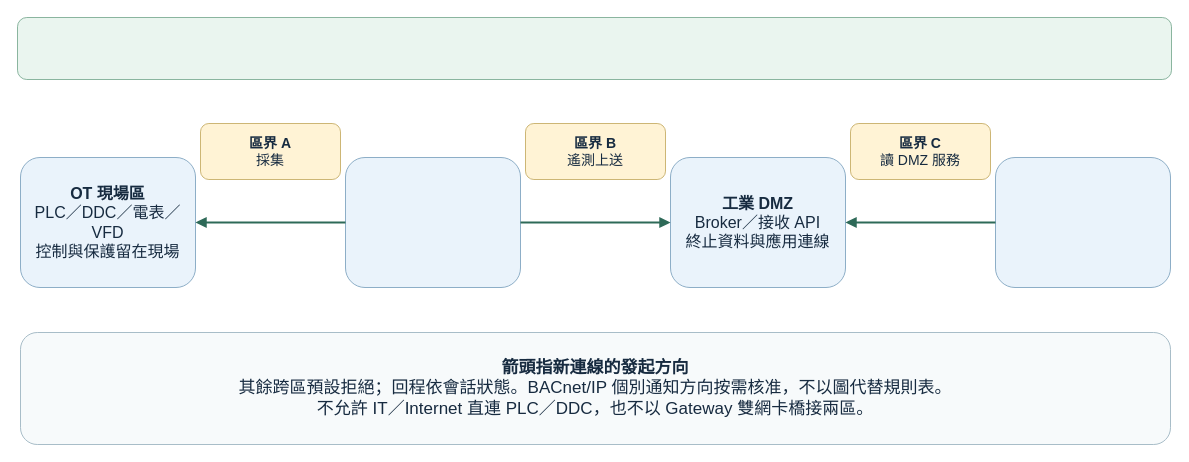
The diagram is 1189 pixels wide and 462 high, and some of its shapes have lost their labels. Here are the shapes that lost their labels. From the top down, the box of each, then its label:
(16, 16, 1172, 80): 工業資料採集 Gateway｜防火牆分區與連線發起方向
(344, 156, 520, 288): OT 採集區 工業閘道 Gateway 協定轉接、品質與暫存
(994, 156, 1170, 288): IT／應用區 SCADA／FMCS 歷史庫、報表
